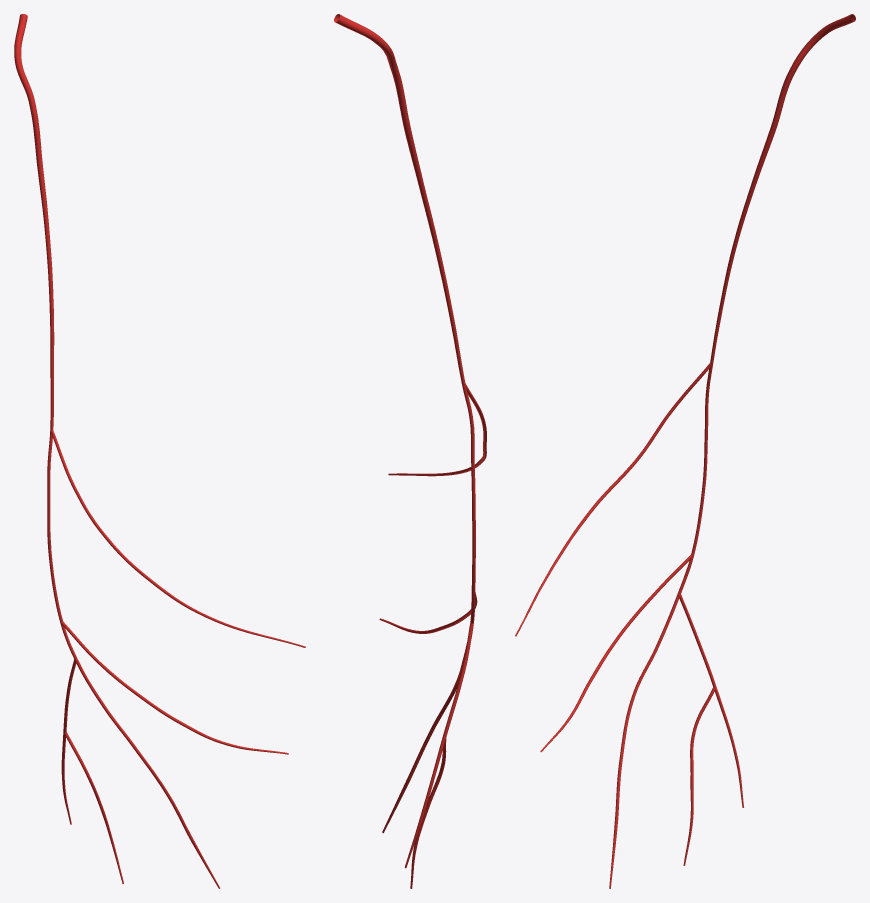
The model's file is circulatorio-lateral-thoracic-vein-r.glb.
3 renders of one model, left to right at view 1: azimuth 30°, elevation 25°; view 2: azimuth 150°, elevation 25°; view 3: azimuth 270°, elevation 25°, orthographic. The views are drawn at different scales.
Visible parts, largest first — view 1: Lateral thoracic vein.r; view 2: Lateral thoracic vein.r; view 3: Lateral thoracic vein.r.
Boxes of the visible parts, box(x1,y1,x2,y2) form: Lateral thoracic vein.r: box(14, 14, 305, 888); Lateral thoracic vein.r: box(334, 14, 486, 888); Lateral thoracic vein.r: box(515, 14, 855, 888).
Bounding box in the file's own units: 0.0723 × 0.3389 × 0.1244.
